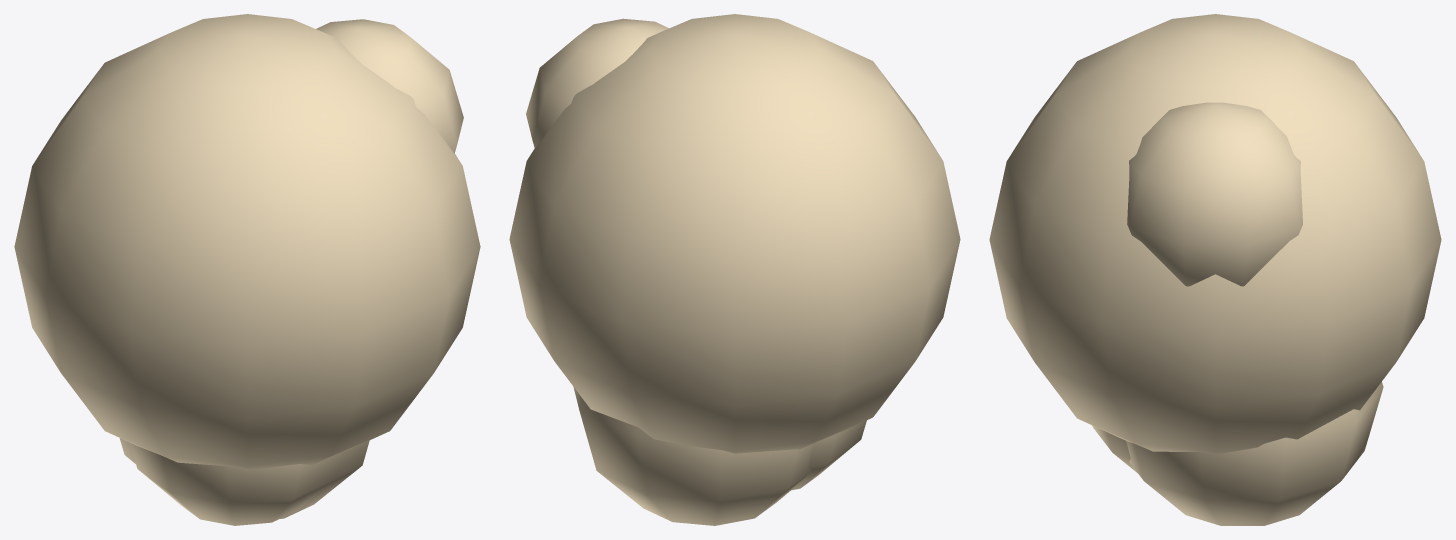
File: Beanbag.fbx
3 views of the same model, side by side, from view 1: azimuth 30°, elevation 25°; view 2: azimuth 150°, elevation 25°; view 3: azimuth 270°, elevation 25° (orthographic). The views are drawn at different scales.
Visible parts, largest first — view 1: beanbag; view 2: beanbag; view 3: beanbag.
Part boxes in pixels (x1,y1,x2,y2): beanbag: (14,14,480,525); beanbag: (509,14,960,525); beanbag: (989,14,1441,525).
Bounding box in the file's own units: 0.26 × 0.3002 × 0.26.
